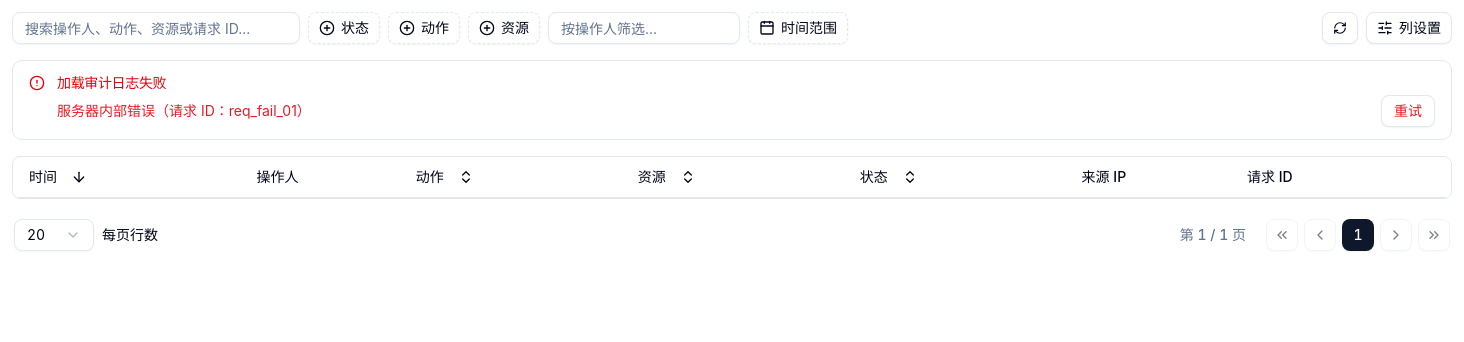
Test: audit-logs feature › renders a localized 5xx alert with request id, hides the empty state, and retries
Check: the message "加载审计日志失败 服务器内部错误（请求 ID：req_fail_01） 重试" is shown, box [12,60,1452,140]
Check: the message reads "加载审计日志失败 服务器内部错误（请求 ID：req_fail_01） 重试", box [57,102,311,119]
Click the button "重试" at x=1408, y=111, box [1381,95,1435,127]
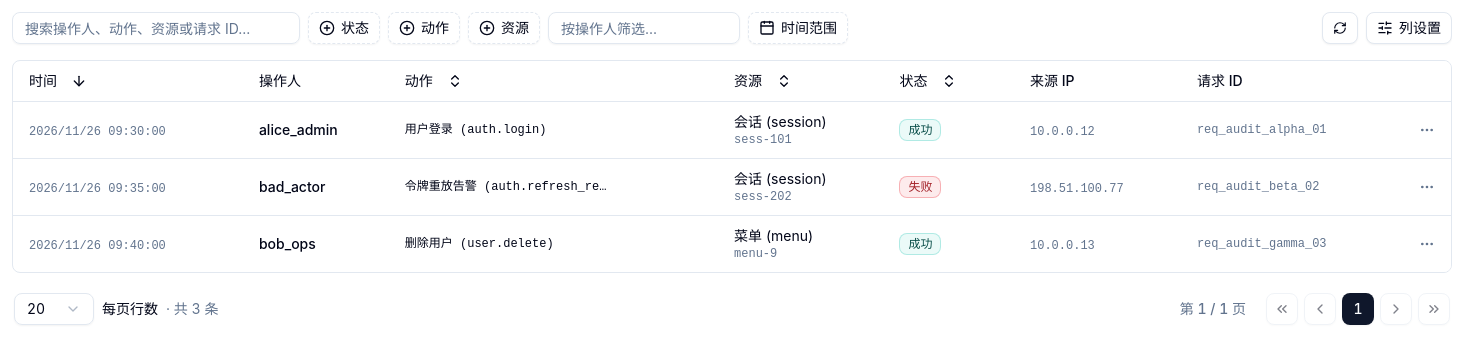
Check: the text "alice_admin" is shown, box [259,120,338,138]
